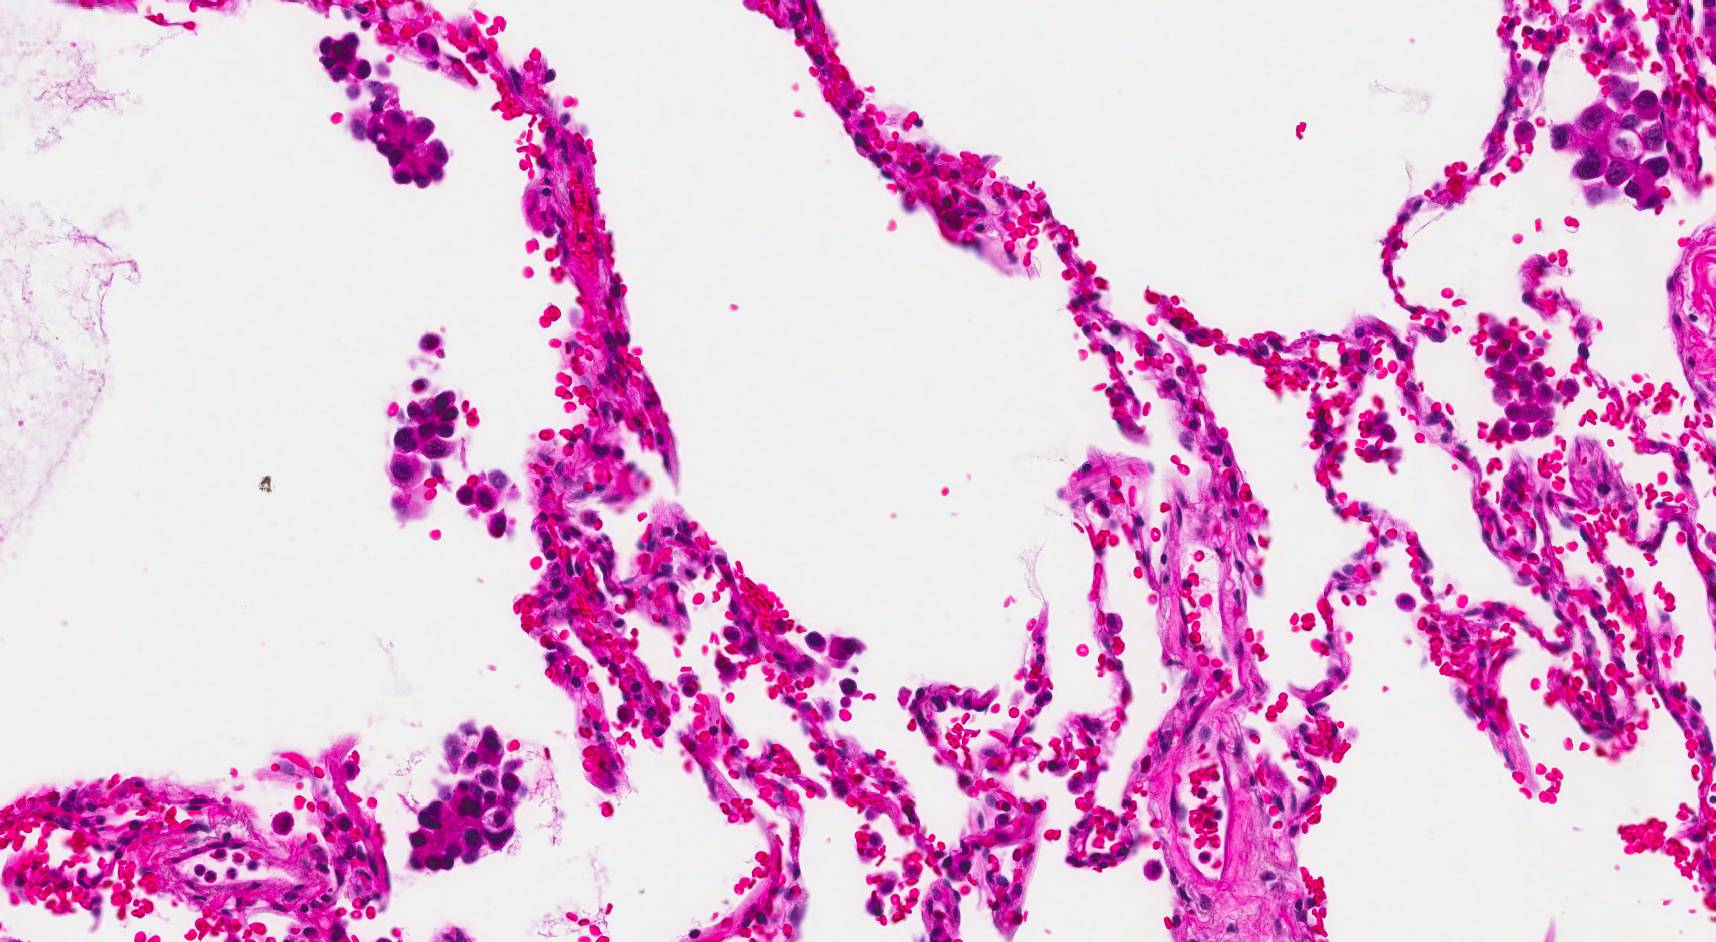stas: (403, 716, 539, 877), (1550, 85, 1676, 215), (353, 94, 456, 192), (387, 389, 462, 492), (453, 463, 521, 538), (316, 25, 375, 83)
